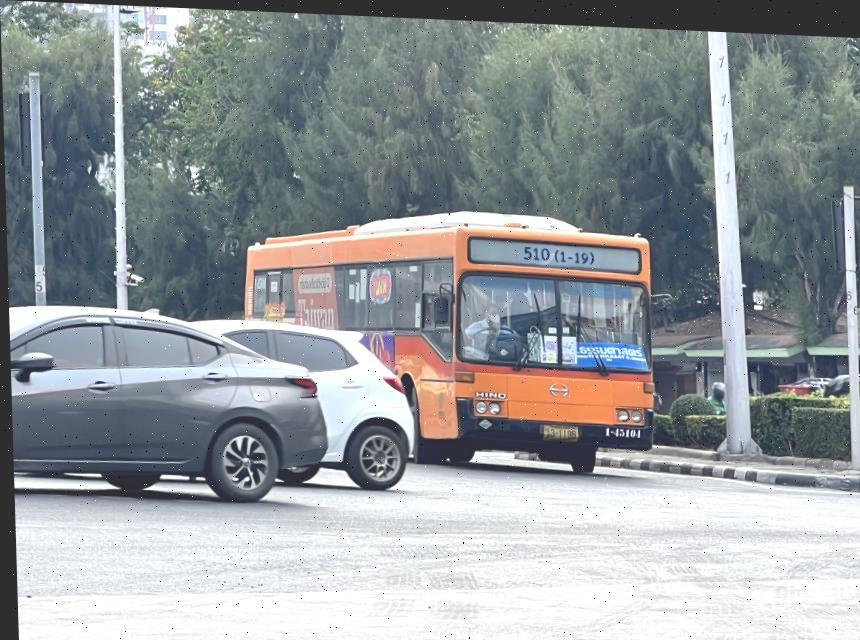BMTA-bus: (241, 209, 652, 470)
Bus Line Number: (515, 234, 598, 262)
Bus Side Number: (599, 418, 642, 435)
Destination Sign: (575, 336, 647, 364)
